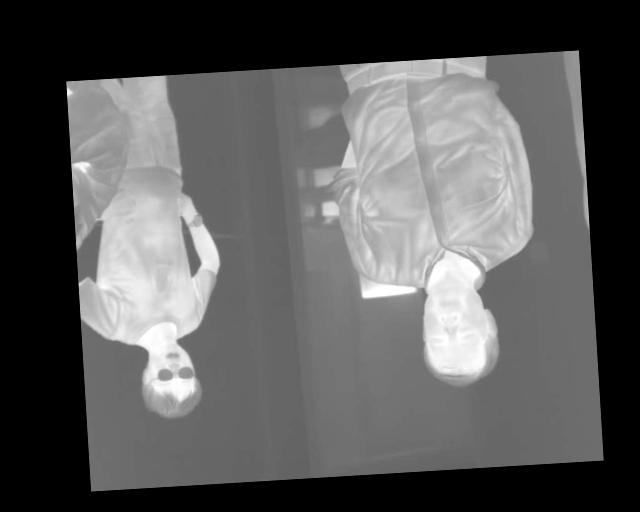face: (417, 275, 501, 390), (138, 336, 203, 420)
